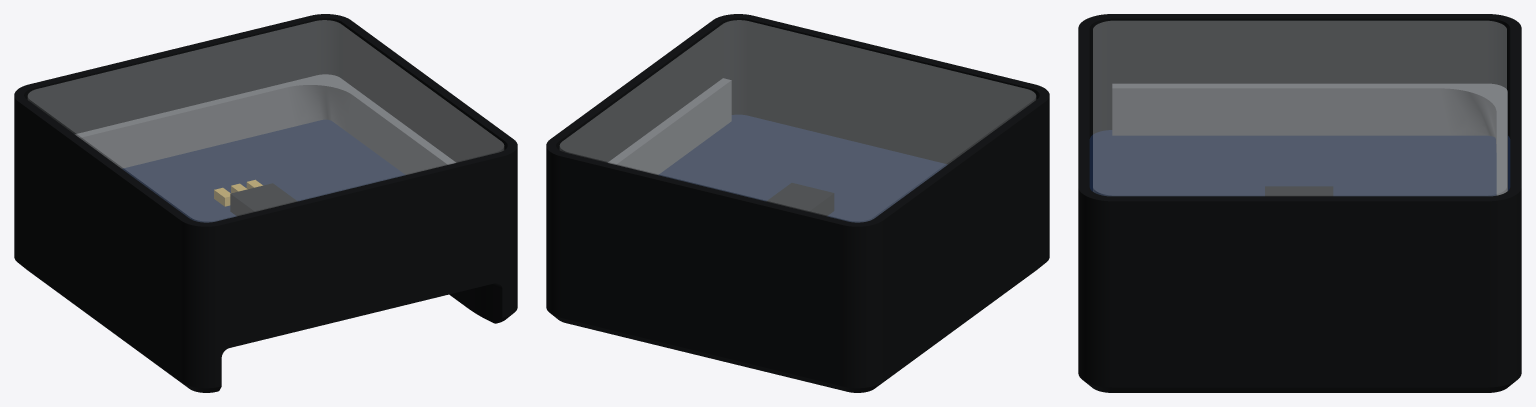
File: orientation-sensor.glb
3 views of the same model, side by side, from view 1: azimuth 30°, elevation 25°; view 2: azimuth 150°, elevation 25°; view 3: azimuth 270°, elevation 25° (orthographic). The views are drawn at different scales.
Visible parts, largest first — view 1: black, glass, grey, pcb, gold; view 2: black, glass, pcb, grey; view 3: black, glass, pcb, grey.
Part boxes in pixels (x1=…): black: x1=14, y1=14, x2=517, y2=392; glass: x1=28, y1=20, x2=503, y2=222; grey: x1=75, y1=74, x2=456, y2=174; pcb: x1=122, y1=119, x2=405, y2=222; gold: x1=214, y1=179, x2=262, y2=206; black: x1=546, y1=14, x2=1049, y2=392; glass: x1=560, y1=20, x2=1035, y2=222; pcb: x1=658, y1=114, x2=947, y2=222; grey: x1=607, y1=78, x2=731, y2=174; black: x1=1078, y1=14, x2=1521, y2=392; glass: x1=1093, y1=21, x2=1506, y2=195; pcb: x1=1089, y1=130, x2=1510, y2=196; grey: x1=1112, y1=83, x2=1507, y2=195.
Size of the model in its own units: 0.0195 by 0.00954 by 0.0195.
